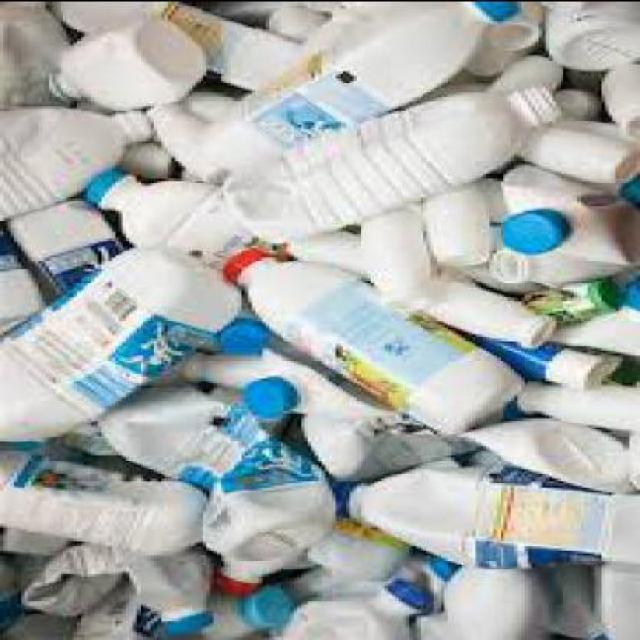PLASTIC: (0, 1, 638, 638), (234, 246, 532, 431), (227, 256, 528, 435), (196, 2, 493, 180), (224, 89, 556, 242), (1, 250, 238, 456), (91, 391, 332, 563), (172, 349, 476, 482), (343, 452, 637, 570), (273, 231, 556, 349), (52, 2, 297, 92), (0, 451, 203, 554), (13, 539, 210, 633), (0, 110, 151, 221), (84, 177, 259, 272), (46, 16, 202, 115), (294, 394, 472, 477), (493, 169, 636, 268), (0, 196, 129, 298), (465, 426, 637, 499), (412, 568, 550, 638), (423, 279, 552, 352), (262, 582, 430, 638), (153, 94, 244, 186), (511, 119, 637, 184), (350, 208, 430, 309), (0, 2, 74, 110), (69, 577, 197, 638), (301, 518, 402, 590), (538, 2, 637, 75), (410, 186, 492, 269), (514, 379, 637, 433), (472, 344, 608, 390), (0, 550, 65, 638), (486, 249, 637, 286), (528, 564, 597, 638), (188, 586, 284, 639), (0, 233, 46, 338), (514, 280, 612, 326), (549, 310, 637, 358), (472, 2, 546, 58), (493, 209, 570, 262), (287, 566, 391, 602), (591, 563, 638, 639), (594, 65, 637, 138), (458, 37, 536, 77), (392, 555, 454, 603), (482, 58, 560, 96), (235, 374, 290, 420), (538, 352, 604, 388), (210, 2, 301, 26), (260, 9, 326, 42), (238, 584, 284, 631), (77, 170, 129, 207), (210, 326, 259, 359), (384, 579, 427, 615), (552, 85, 598, 118), (108, 109, 147, 146), (126, 144, 165, 178), (461, 2, 514, 24), (220, 251, 254, 284), (329, 482, 360, 518), (606, 277, 636, 314), (210, 572, 252, 596), (580, 282, 612, 312), (622, 431, 636, 495), (157, 617, 206, 635), (293, 2, 336, 16), (430, 558, 448, 582), (591, 631, 611, 638)
